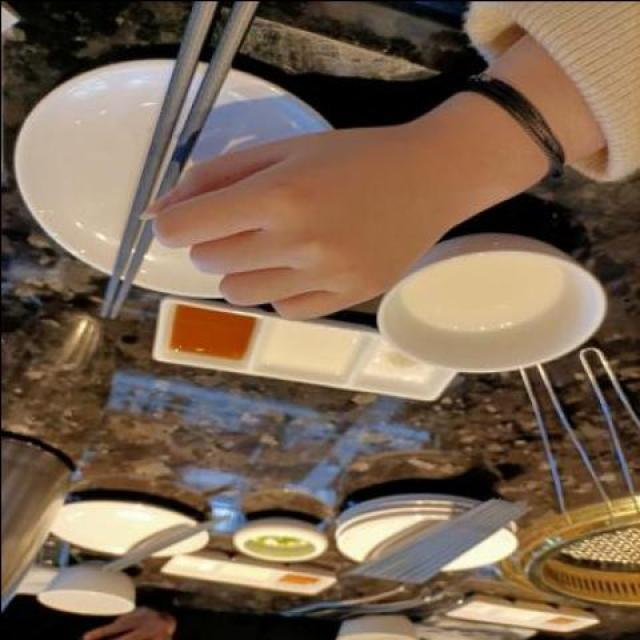fist: (131, 108, 445, 325)
